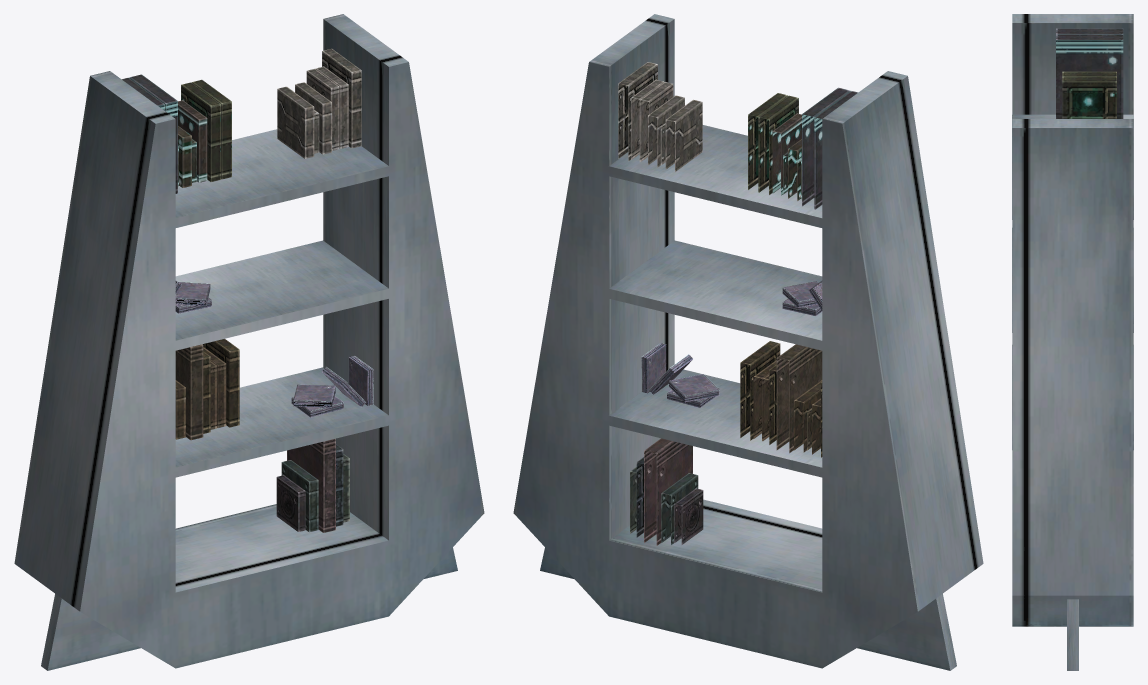
Rendered from frn_all_tech_bookcase_s01_l0.fbx.
The picture shows the model from 3 angles, left to right: view 1: azimuth 30°, elevation 25°; view 2: azimuth 150°, elevation 25°; view 3: azimuth 270°, elevation 25°; orthographic projection. The views are drawn at different scales.
Parts seen in each view (by area): view 1: mesh_node; view 2: mesh_node; view 3: mesh_node.
Part boxes in pixels (x1,y1,x2,y2): mesh_node: [14, 14, 484, 670]; mesh_node: [513, 14, 983, 670]; mesh_node: [1012, 14, 1133, 670].
Size of the model in its own units: 1.4 by 1.8 by 0.3909.
